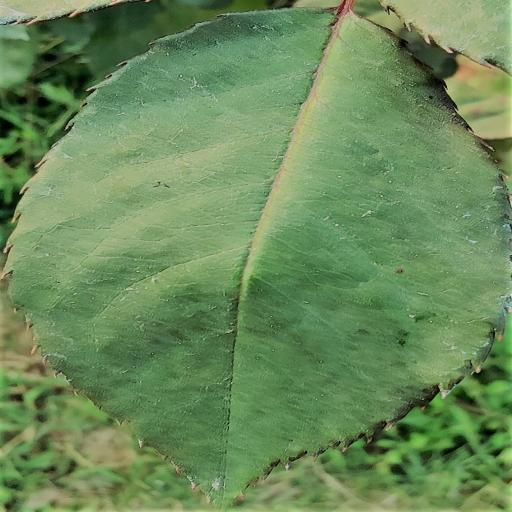healthy_leaf: (1, 0, 512, 509)
